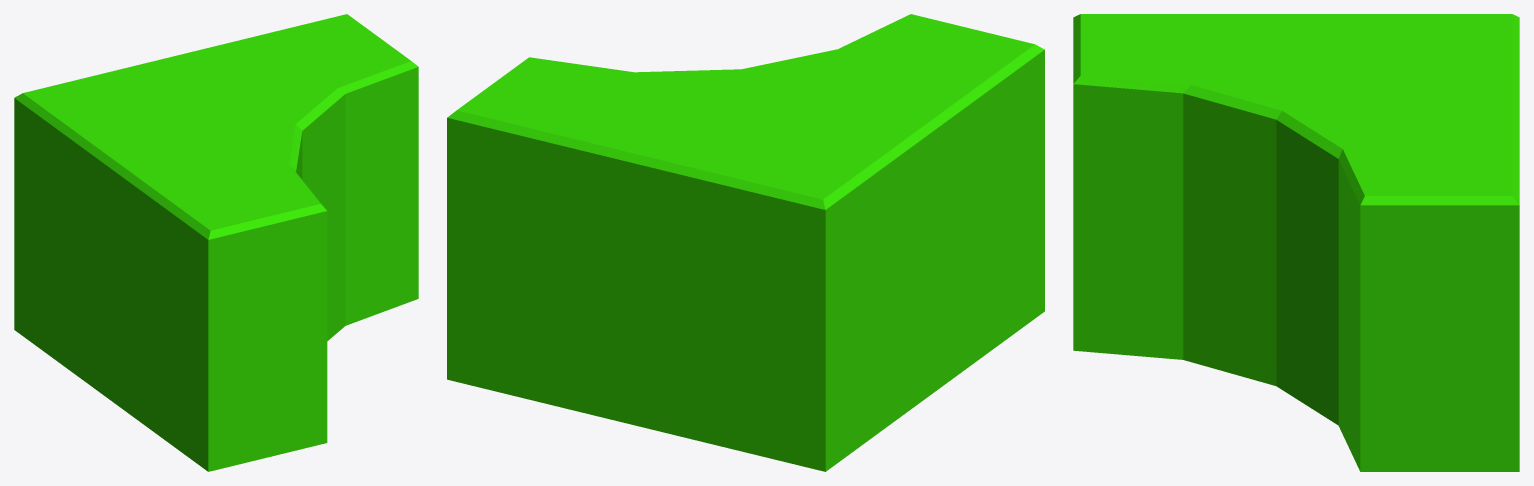
Rendered from round_3x2_03.fbx.
The picture shows the model from 3 angles, left to right: view 1: azimuth 30°, elevation 25°; view 2: azimuth 150°, elevation 25°; view 3: azimuth 270°, elevation 25°; orthographic projection. The views are drawn at different scales.
Parts seen in each view (by area): view 1: round_3x2_03; view 2: round_3x2_03; view 3: round_3x2_03.
Part boxes in pixels (x1,y1,x2,y2): round_3x2_03: (14, 14, 418, 471); round_3x2_03: (447, 14, 1044, 471); round_3x2_03: (1073, 14, 1519, 471).
Size of the model in its own units: 310 by 210 by 311.
